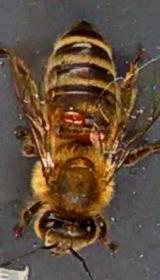varroa_mite: (54, 106, 87, 126)
